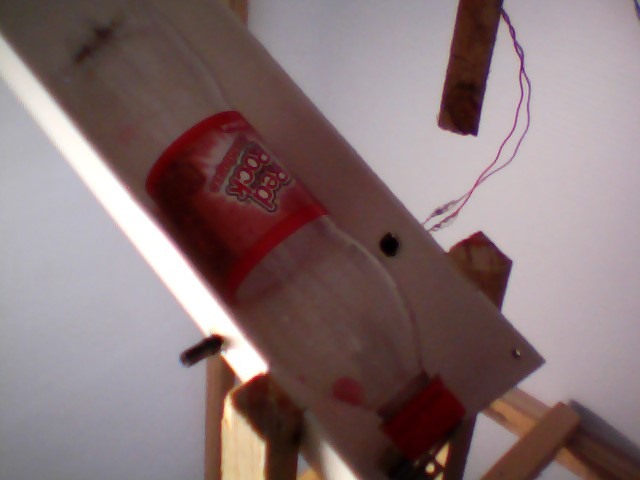plastico: (44, 5, 474, 464)
